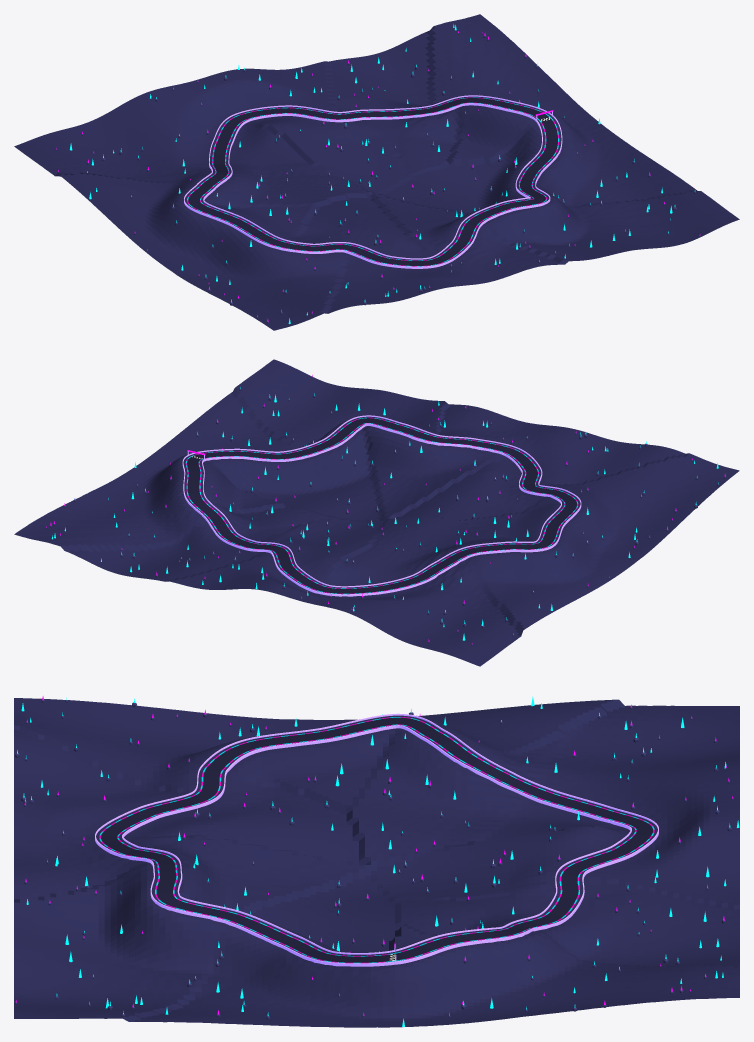
The model's file is level_6.glb.
3 views of the same model, one above another, from view 1: azimuth 30°, elevation 25°; view 2: azimuth 150°, elevation 25°; view 3: azimuth 270°, elevation 25° (orthographic). The views are drawn at different scales.
Parts seen in each view (by area): view 1: Terrain, Road, Wall_L, Wall_R, Shoulder_L, Props_leaf, Props_trunk, Curb_L, Shoulder_R, Curb_R; view 2: Terrain, Road, Wall_L, Wall_R, Shoulder_L, Props_leaf, Curb_L, Props_trunk, Shoulder_R, Curb_R; view 3: Terrain, Road, Wall_L, Wall_R, Shoulder_L, Shoulder_R, Props_leaf, Props_trunk, Curb_L, Curb_R.
Boxes of the visible parts, x1,y1,x2,y2 form: Terrain: (14,14,739,330); Road: (188,98,557,265); Wall_L: (184,95,562,268); Wall_R: (203,103,542,259); Shoulder_L: (184,96,561,264); Props_leaf: (69,24,695,324); Props_trunk: (56,33,700,323); Curb_L: (187,97,559,266); Shoulder_R: (201,106,545,260); Curb_R: (200,102,546,260); Terrain: (14,359,739,666); Road: (187,418,576,593); Wall_L: (182,415,581,596); Wall_R: (202,423,561,587); Shoulder_L: (183,416,580,591); Props_leaf: (51,387,718,640); Curb_L: (185,417,578,594); Props_trunk: (46,376,726,645); Shoulder_R: (199,424,564,588); Curb_R: (198,423,565,588); Terrain: (14,698,739,1027); Road: (101,717,652,962); Wall_L: (95,713,658,966); Wall_R: (122,725,631,954); Shoulder_L: (96,715,657,960); Shoulder_R: (118,726,635,955); Props_leaf: (17,696,739,1027); Props_trunk: (15,700,733,1019); Curb_L: (99,717,654,963); Curb_R: (117,724,636,956).
Size of the model in its own units: 555 by 47.94 by 535.
